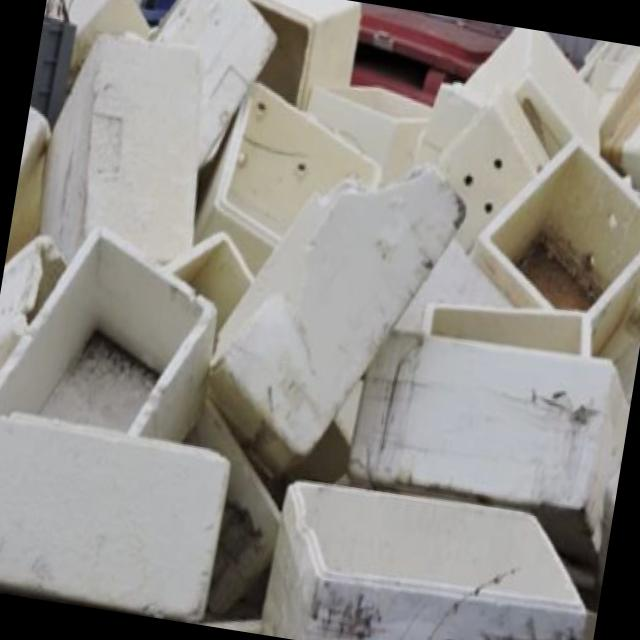electronic: (257, 469, 603, 640), (0, 398, 237, 626), (457, 122, 640, 356)
